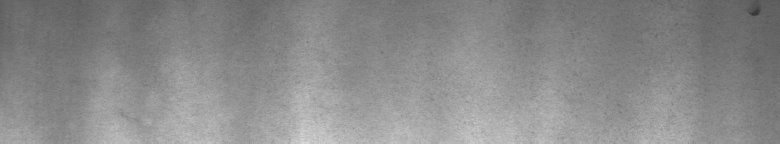fi: (747, 4, 764, 24)
